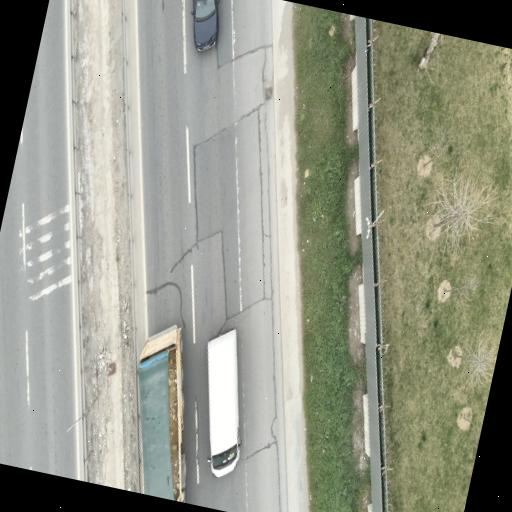car: (208, 328, 240, 476), (193, 0, 218, 50)
truck: (138, 326, 185, 502)
